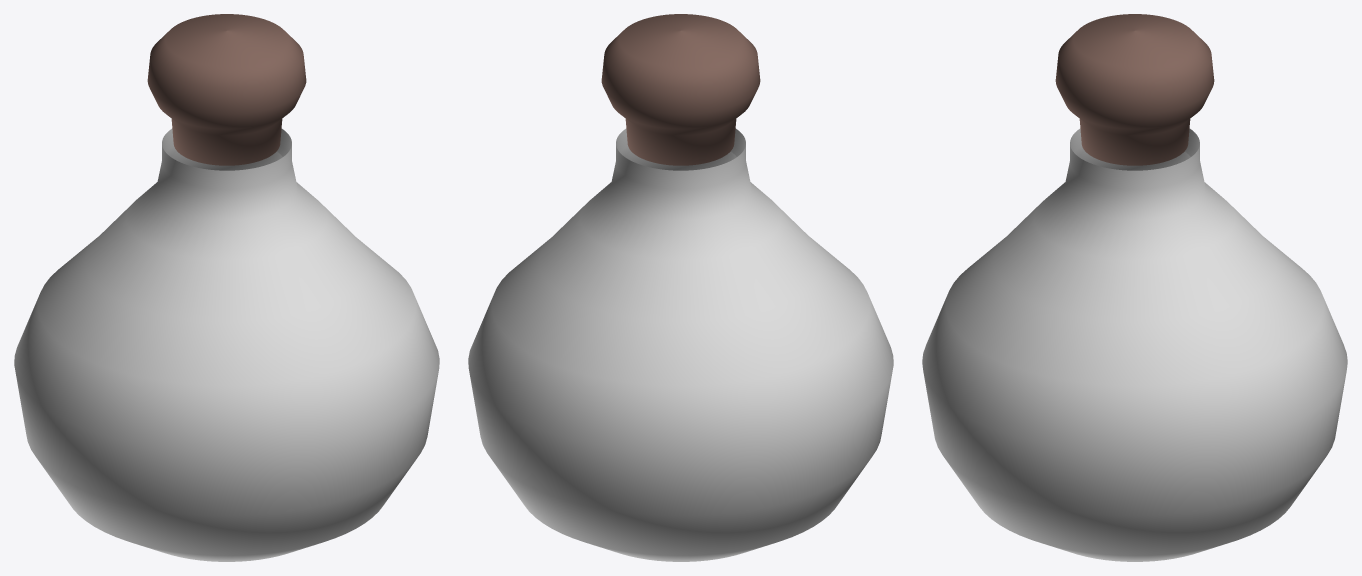
Rendered from GreenBotleNew.fbx.
3 views of the same model, side by side, from view 1: azimuth 30°, elevation 25°; view 2: azimuth 150°, elevation 25°; view 3: azimuth 270°, elevation 25° (orthographic).
Visible parts, largest first — view 1: Bottle_Glass, Cork_Stopper, Liquid_Fill; view 2: Bottle_Glass, Cork_Stopper, Liquid_Fill; view 3: Bottle_Glass, Cork_Stopper, Liquid_Fill.
Part boxes in pixels (left/top/right/bottom): Bottle_Glass: left=14, top=128, right=439, bottom=561; Cork_Stopper: left=147, top=14, right=306, bottom=165; Liquid_Fill: left=171, top=151, right=282, bottom=170; Bottle_Glass: left=468, top=128, right=893, bottom=561; Cork_Stopper: left=601, top=14, right=760, bottom=165; Liquid_Fill: left=625, top=151, right=736, bottom=170; Bottle_Glass: left=922, top=129, right=1347, bottom=561; Cork_Stopper: left=1055, top=14, right=1214, bottom=165; Liquid_Fill: left=1079, top=151, right=1190, bottom=170.
Size of the model in its own units: 259 by 328 by 259.
